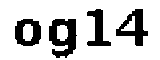1: (84, 7, 111, 49)
4: (114, 8, 149, 48)
g: (47, 16, 79, 57)
o: (13, 17, 42, 48)
